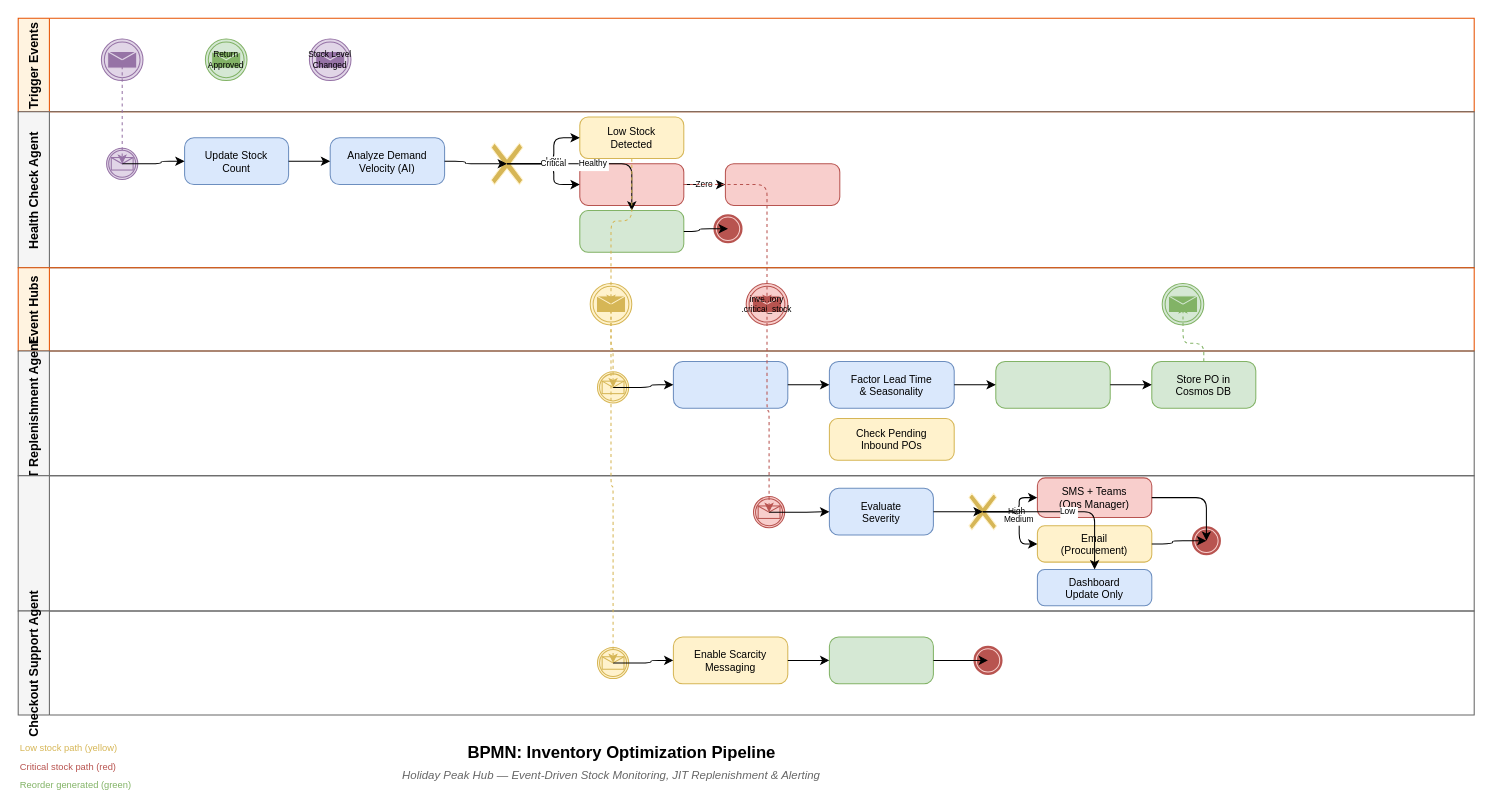
The diagram is 1492 pixels wide and 810 high, and some of its shapes have lost their labels. Each missing label, with the box of its shape:
"Only 3 left!" UI Data: (828, 636, 933, 684)
Alerts & Triggers Agent: (17, 475, 1474, 611)
Calculate Demand Velocity: (672, 360, 788, 408)
Critical Stock Alert: (579, 163, 684, 205)
Generate Purchase Order: (995, 360, 1110, 408)
Healthy: No Action: (579, 210, 684, 252)
inventory .low_stock: (589, 282, 632, 325)
Order Created: (100, 38, 143, 81)
reorder _generated: (1161, 282, 1204, 325)
STOCKOUT: Disable Sales: (724, 163, 840, 205)
